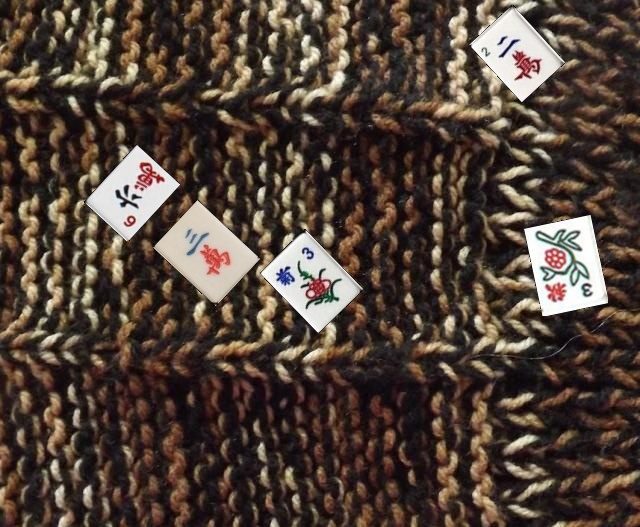bonus-autumn: (523, 214, 608, 316)
bonus-chrysanthemum: (260, 229, 363, 333)
characters-2: (469, 5, 565, 102)
characters-3: (153, 200, 260, 306)
characters-6: (84, 144, 180, 241)
